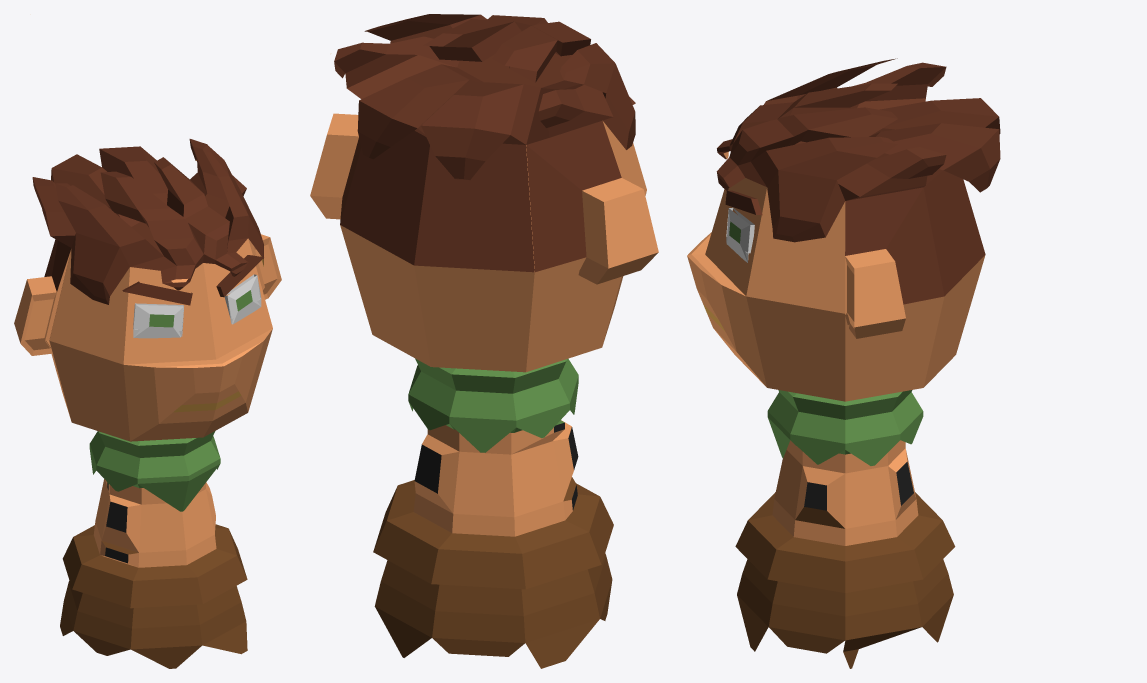
Rendered from Tronco.fbx.
3 views of the same model, side by side, from view 1: azimuth 30°, elevation 25°; view 2: azimuth 150°, elevation 25°; view 3: azimuth 270°, elevation 25° (orthographic). The views are drawn at different scales.
Visible parts, largest first — view 1: Personagem; view 2: Personagem; view 3: Personagem.
Boxes of the visible parts, bbox=[...] form: Personagem: bbox=[14, 139, 281, 668]; Personagem: bbox=[310, 14, 658, 668]; Personagem: bbox=[687, 58, 1000, 668].
Bounding box in the file's own units: 222 × 434 × 285.
